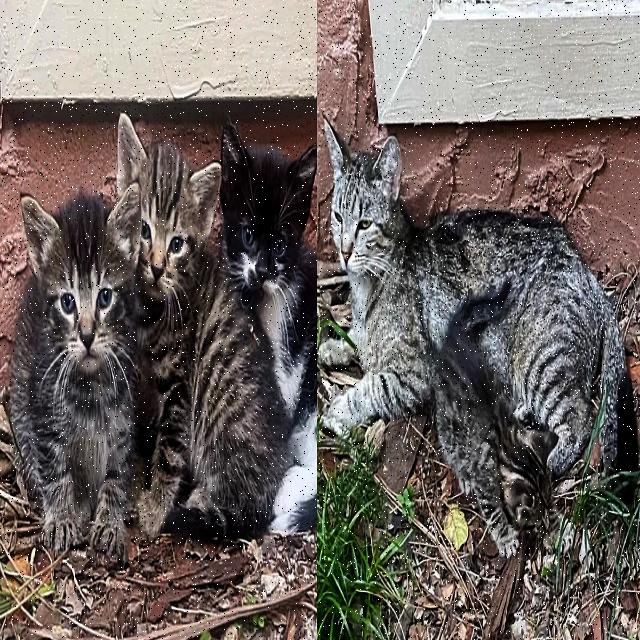cat: (322, 124, 636, 478), (118, 115, 289, 538), (10, 185, 158, 566), (220, 122, 316, 532), (434, 280, 558, 556)
